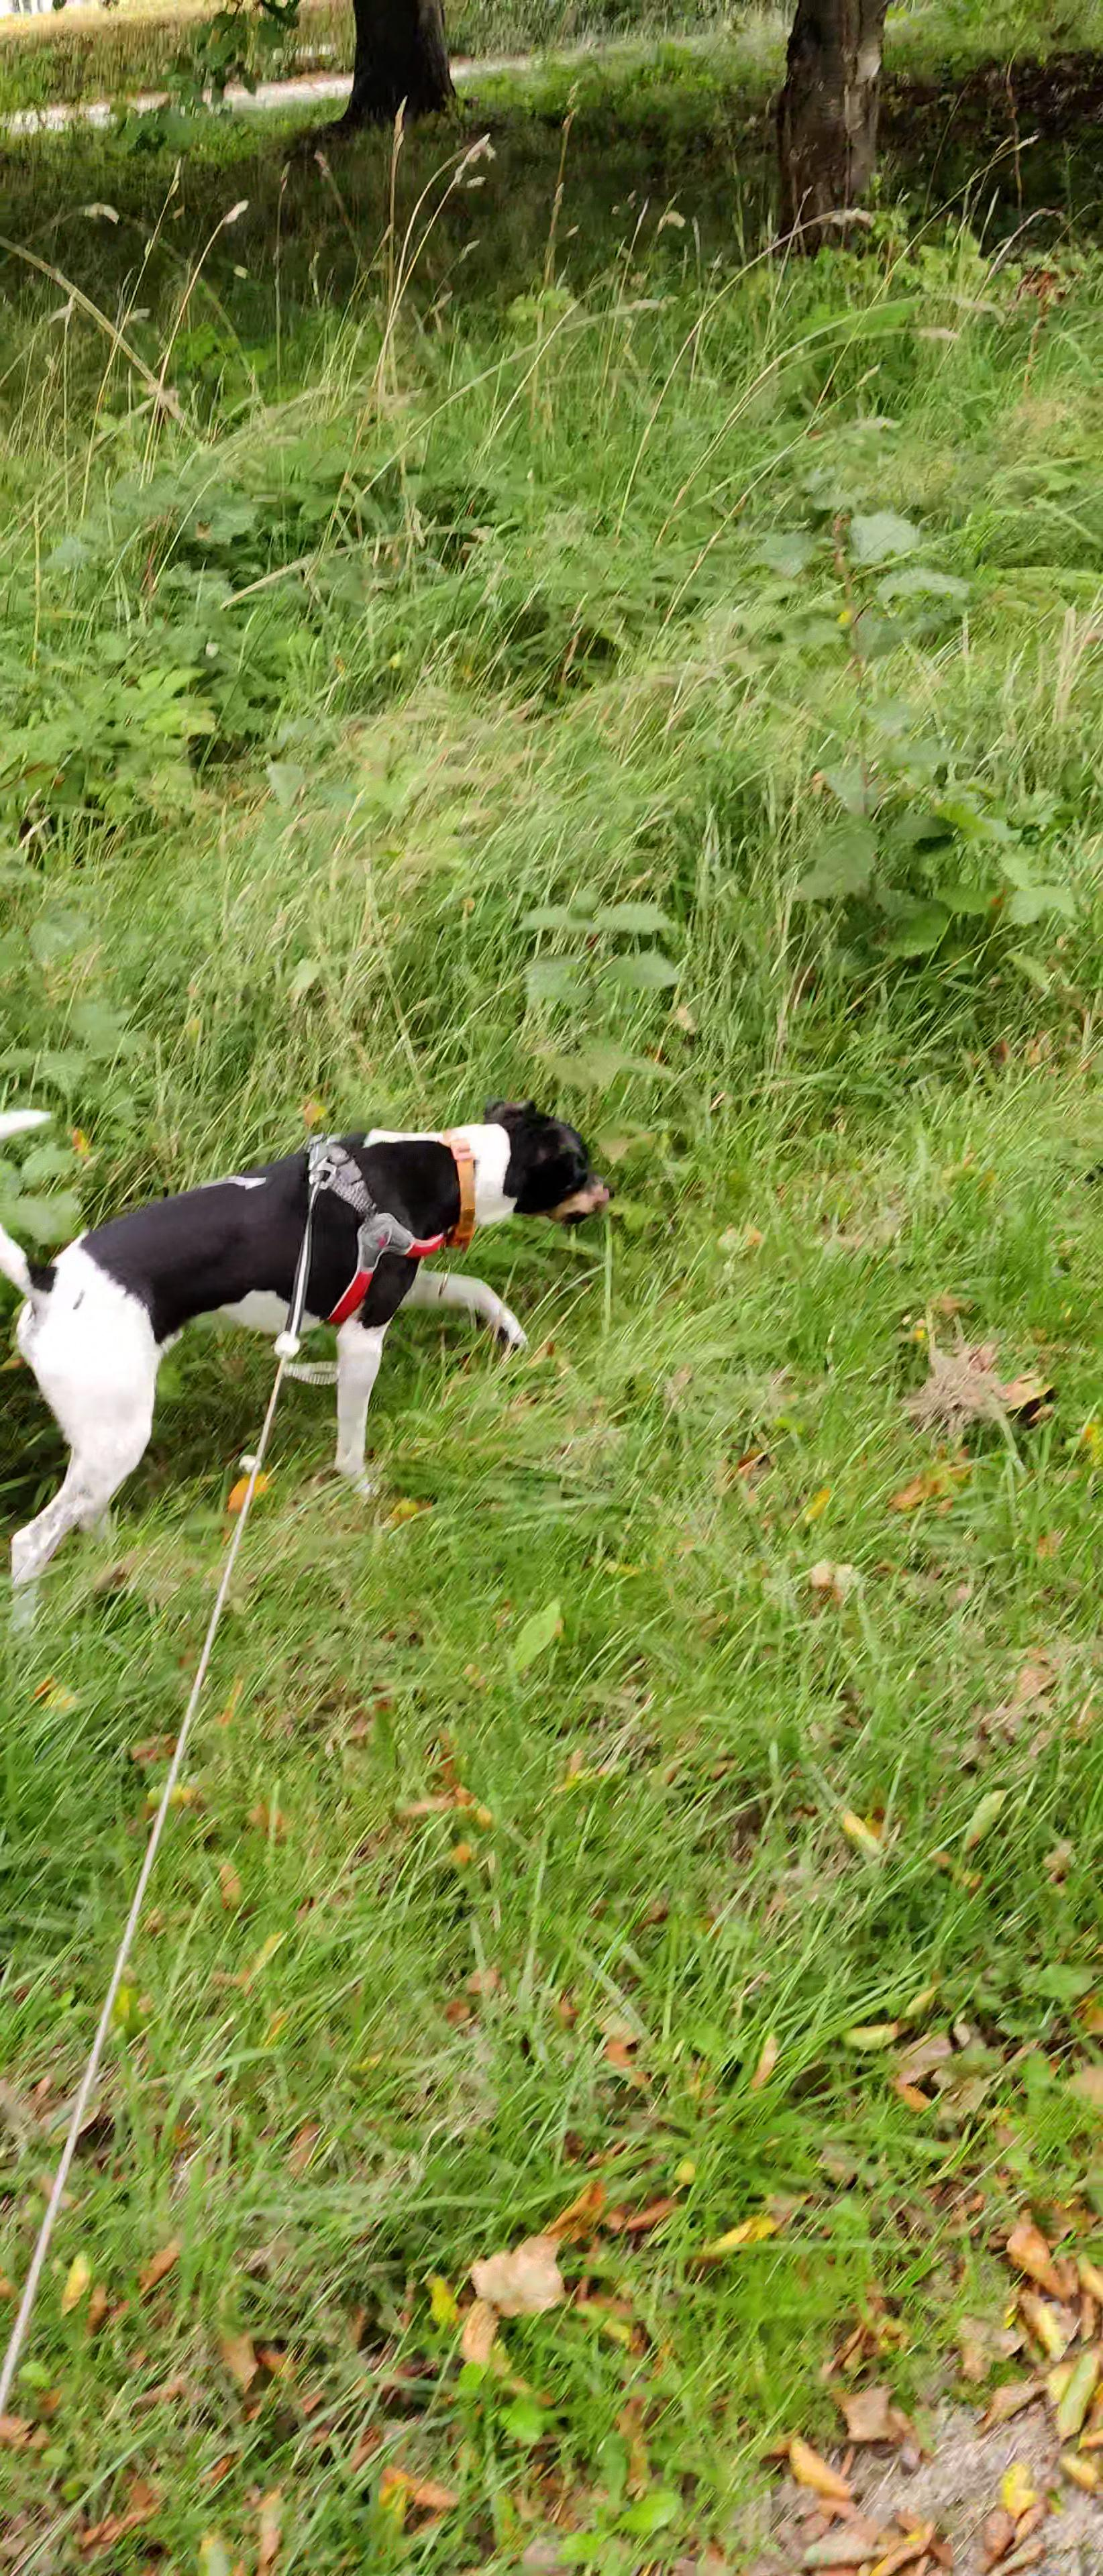Dog: (0, 1083, 631, 1643)
